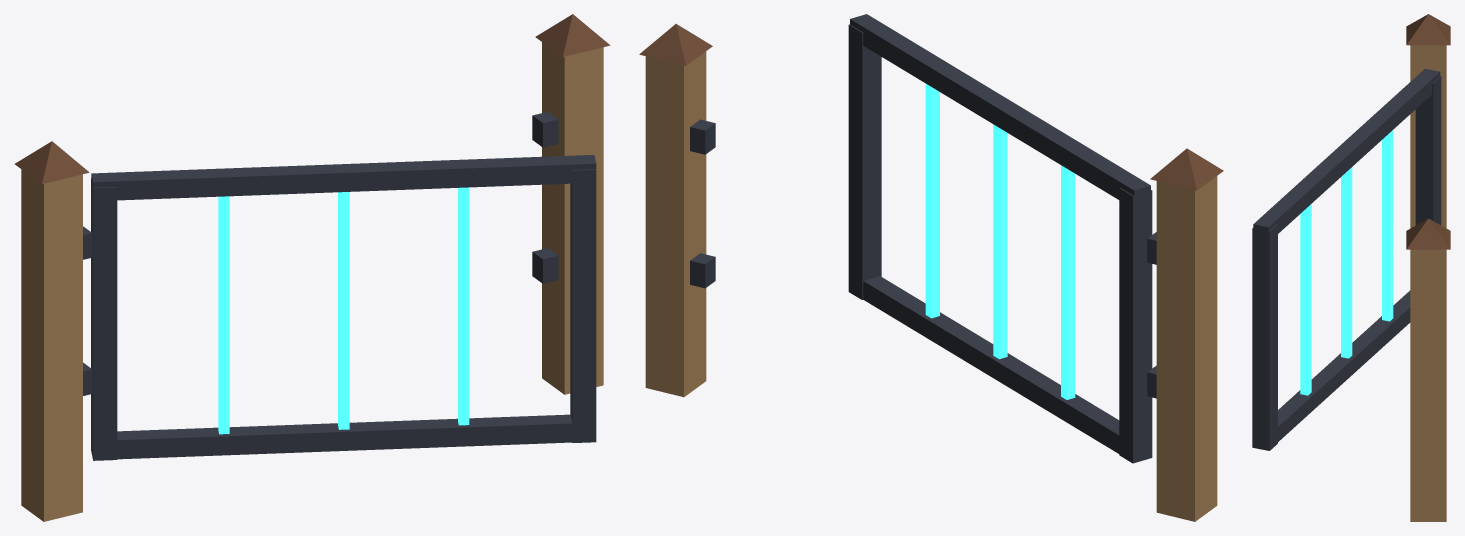
Rendered from Prop_Fence_Laser_Gate.fbx.
The picture shows the model from 3 angles, left to right: view 1: azimuth 30°, elevation 25°; view 2: azimuth 150°, elevation 25°; view 3: azimuth 270°, elevation 25°; orthographic projection. The views are drawn at different scales.
Parts seen in each view (by area): view 1: Prop_Fence_Laser_Gate_Gate, Prop_Fence_Laser_Gate_Body; view 2: Prop_Fence_Laser_Gate_Body, Prop_Fence_Laser_Gate_Gate; view 3: Prop_Fence_Laser_Gate_Gate, Prop_Fence_Laser_Gate_Body.
Part boxes in pixels (<box>): Prop_Fence_Laser_Gate_Gate: <box>91,155,596,460</box>; Prop_Fence_Laser_Gate_Body: <box>14,14,610,521</box>; Prop_Fence_Laser_Gate_Body: <box>639,24,1223,521</box>; Prop_Fence_Laser_Gate_Gate: <box>848,14,1152,463</box>; Prop_Fence_Laser_Gate_Gate: <box>1252,68,1441,450</box>; Prop_Fence_Laser_Gate_Body: <box>1406,14,1450,521</box>.
Bounding box in the file's own units: 2.18 × 1.35 × 0.8213.
